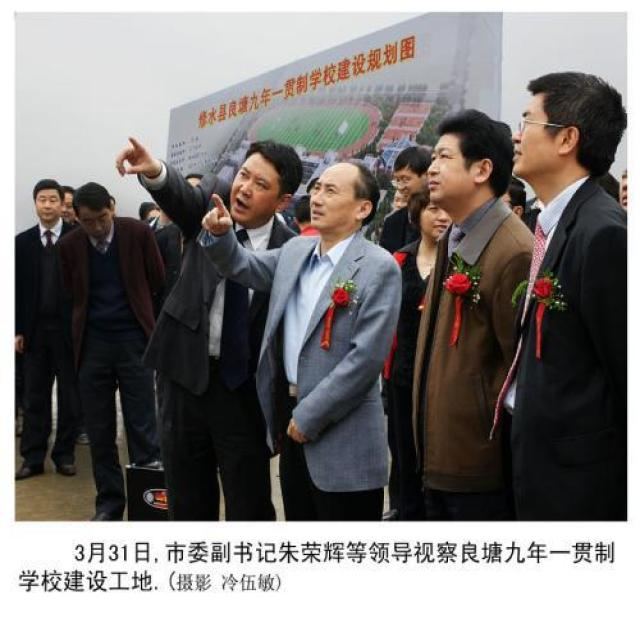head: (520, 64, 630, 192), (425, 110, 507, 218), (230, 136, 300, 225), (305, 152, 379, 233), (408, 191, 457, 244), (390, 144, 429, 204), (76, 184, 115, 240), (29, 177, 66, 225)
